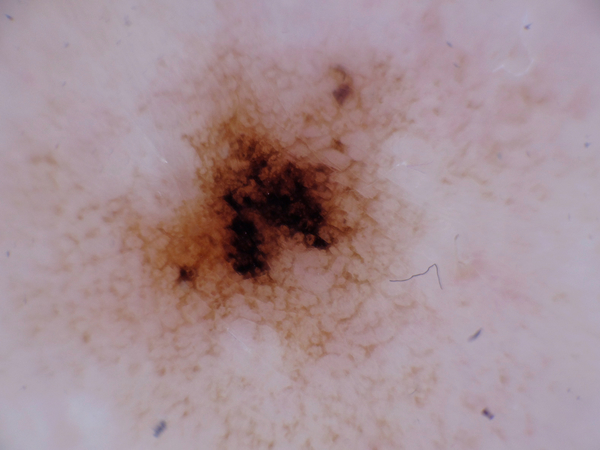Detected Lesion: (113, 63, 414, 417)
